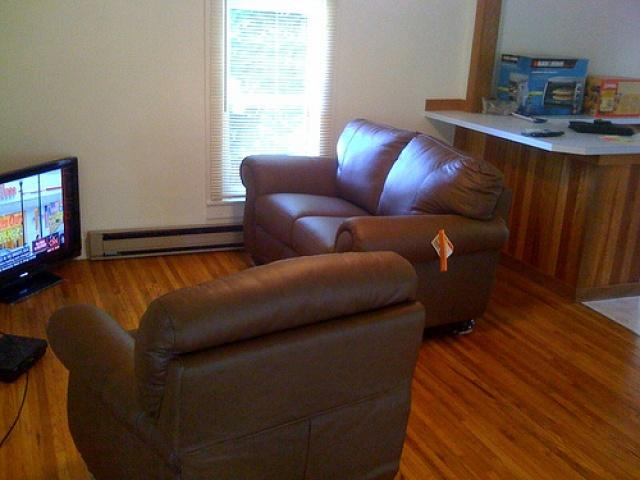AIO PC-Monitor-TV: (0, 154, 82, 303)
